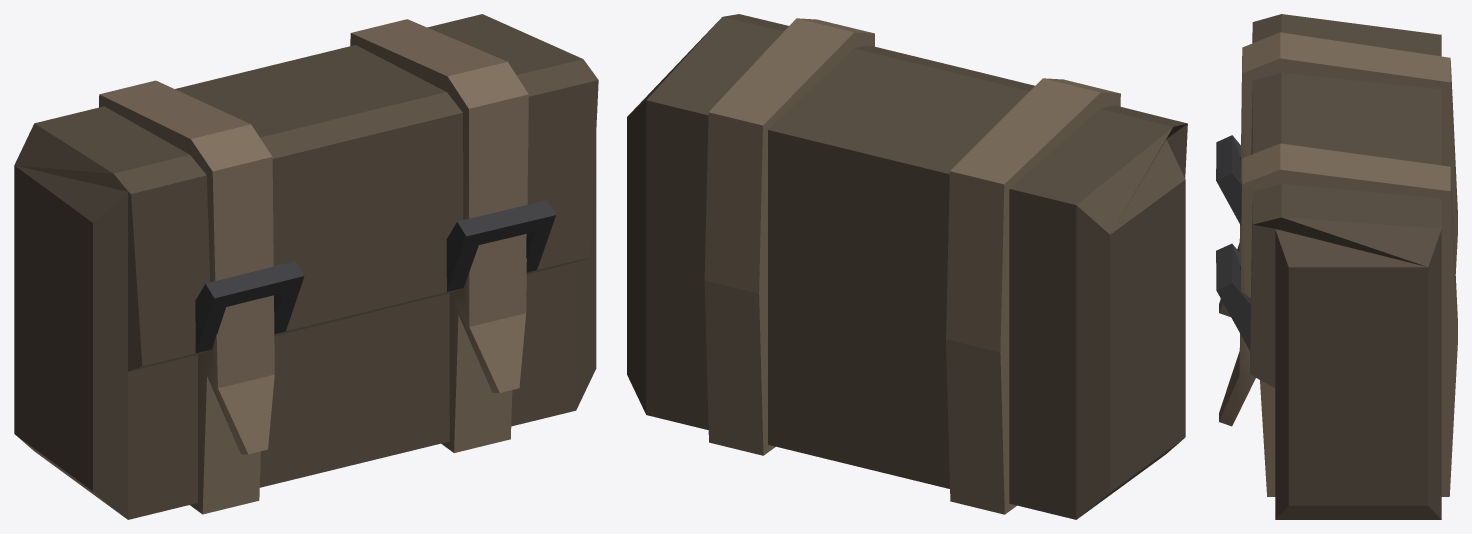
File: SM_Item_Pouch_Attachment_01.glb
3 renders of one model, left to right at view 1: azimuth 30°, elevation 25°; view 2: azimuth 150°, elevation 25°; view 3: azimuth 270°, elevation 25°, orthographic. The views are drawn at different scales.
Visible parts, largest first — view 1: SM_Item_Pouch_Attachment_01; view 2: SM_Item_Pouch_Attachment_01; view 3: SM_Item_Pouch_Attachment_01.
Boxes of the visible parts, x1,y1,x2,y2 form: SM_Item_Pouch_Attachment_01: [14, 14, 598, 519]; SM_Item_Pouch_Attachment_01: [627, 14, 1187, 519]; SM_Item_Pouch_Attachment_01: [1216, 14, 1457, 519].
Size of the model in its own units: 0.00213 by 0.0015 by 0.000997.
